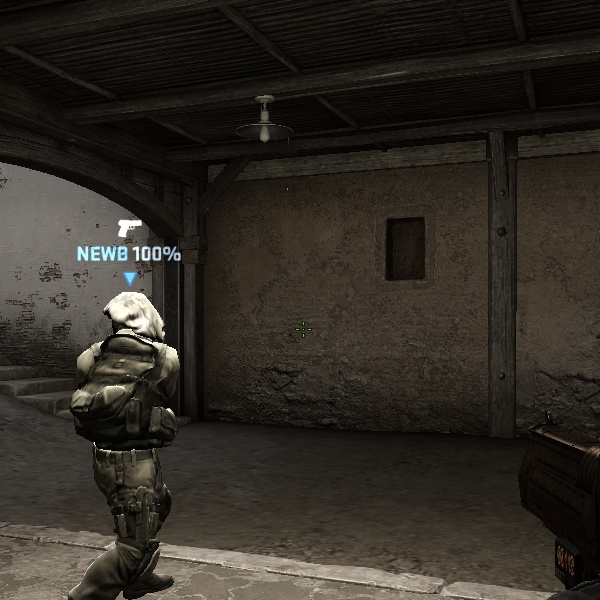ct_body: (40, 284, 226, 596)
ct_head: (95, 286, 161, 349)
